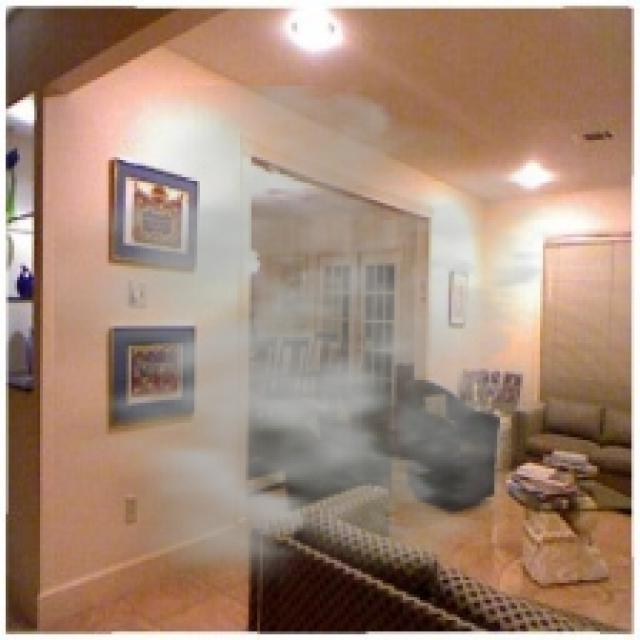smoke: (54, 86, 609, 614)
